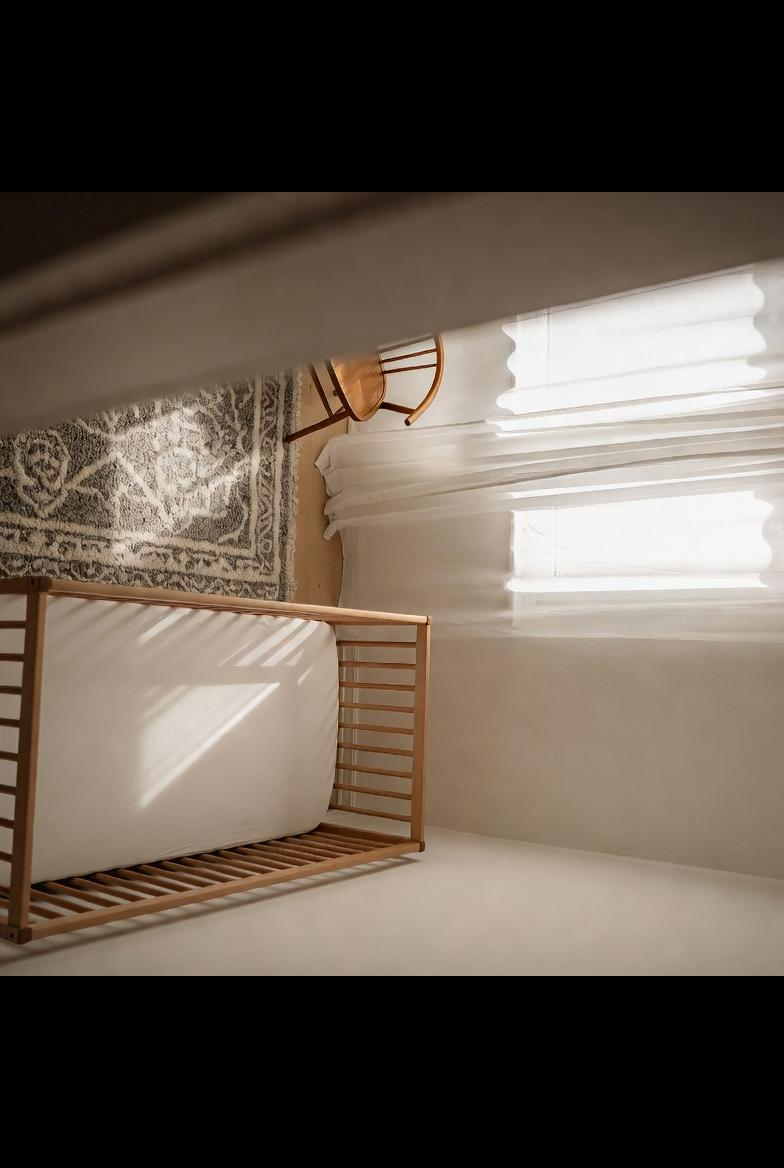crib: (0, 555, 433, 948)
